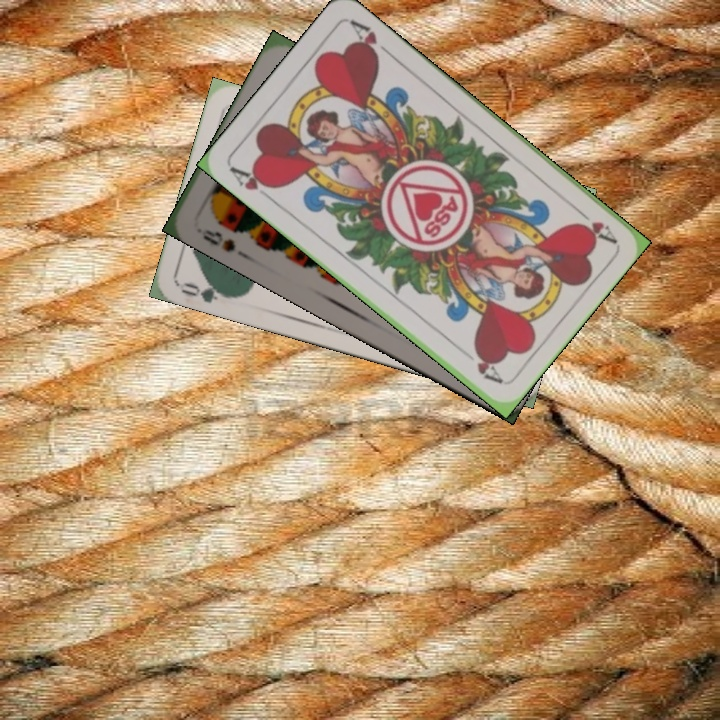GO: (177, 275, 236, 306)
HA: (225, 162, 277, 204), (569, 202, 618, 246)
S8: (197, 225, 238, 255)
